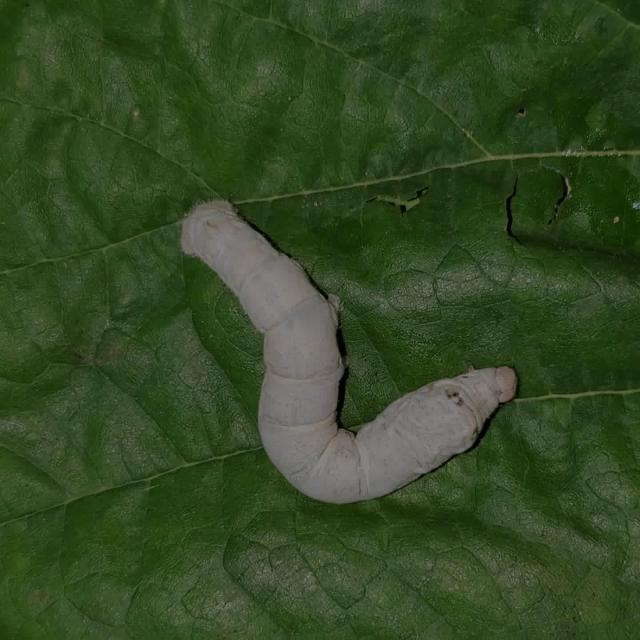Healthy: (162, 158, 546, 536)
